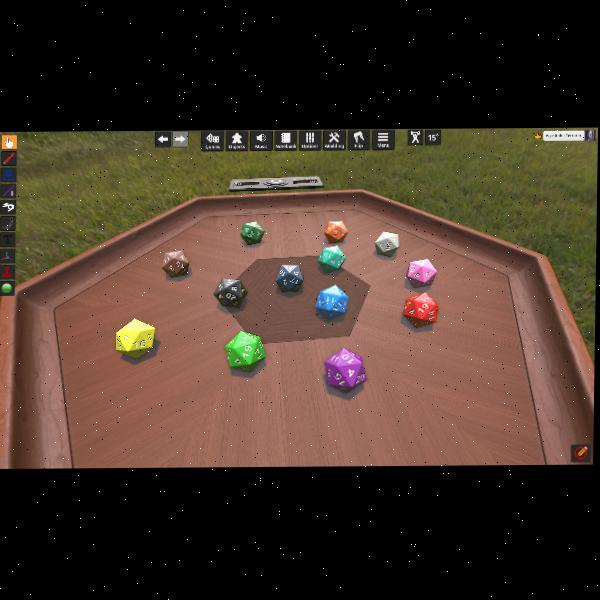d20: (222, 330, 267, 374), (323, 347, 366, 392), (116, 318, 158, 358), (402, 291, 435, 326), (314, 285, 347, 318), (214, 277, 247, 307), (406, 258, 438, 288), (162, 250, 190, 278), (276, 264, 304, 291), (317, 245, 345, 272), (374, 232, 401, 257), (240, 221, 265, 245), (323, 221, 346, 244)
